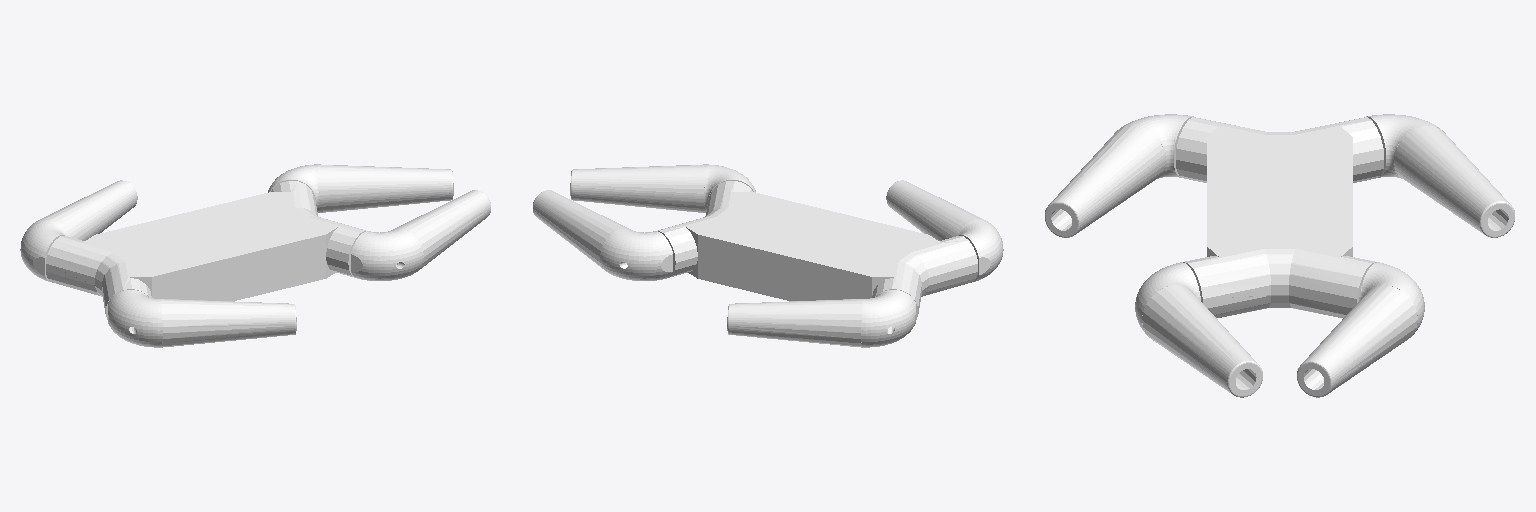
robot.urdf — 26_degree:
<?xml version="1.0" encoding="utf-8"?>
<!-- This URDF was automatically created by SolidWorks to URDF Exporter! Originally created by [author] ([email redacted]) 
     Commit Version: 1.5.1-0-g916b5db  Build Version: 1.5.7152.31018
     For more information, please see http://wiki.ros.org/sw_urdf_exporter -->
<robot
  name="26_degree">
  <link
    name="base_link">
    <inertial>
      <origin
        xyz="-6.9389E-18 8.0095E-08 3.4694E-18"
        rpy="0 0 0" />
      <mass
        value="2.803" />
      <inertia
        ixx="0.009390267"
        ixy="-3.3749E-19"
        ixz="-9.2678E-09"
        iyy="0.045536293"
        iyz="2.3182E-18"
        izz="0.052545964" />
    </inertial>
    <visual>
      <origin
        xyz="0 0 0"
        rpy="0 0 0" />
      <geometry>
        <mesh
          filename="package://26_degree/meshes/base_link.STL" />
      </geometry>
      <material
        name="">
        <color
          rgba="1 1 1 1" />
      </material>
    </visual>
    <collision>
      <origin
        xyz="0 0 0"
        rpy="0 0 0" />
      <geometry>
        <mesh
          filename="package://26_degree/meshes/base_link.STL" />
      </geometry>
    </collision>
  </link>
  <link
    name="left_fromt_link">
    <inertial>
      <origin
        xyz="-8.5031E-08 0.081625 -0.00080805"
        rpy="0 0 0" />
      <mass
        value="0.0967" />
      <inertia
        ixx="0.00042516"
        ixy="-8.7164E-11"
        ixz="1.034E-09"
        iyy="0.00010276"
        iyz="-0.000129125"
        izz="0.000372399" />
    </inertial>
    <visual>
      <origin
        xyz="0 0 0"
        rpy="0 0 0" />
      <geometry>
        <mesh
          filename="package://26_degree/meshes/left_fromt_link.STL" />
      </geometry>
      <material
        name="">
        <color
          rgba="1 1 1 1" />
      </material>
    </visual>
    <collision>
      <origin
        xyz="0 0 0"
        rpy="0 0 0" />
      <geometry>
        <mesh
          filename="package://26_degree/meshes/left_fromt_link.STL" />
      </geometry>
    </collision>
  </link>
  <joint
    name="left_front_leg"
    type="continuous">
    <origin
      xyz="0.17515 0.092576 0"
      rpy="1.5708 1.5708 0" />
    <parent
      link="base_link" />
    <child
      link="left_fromt_link" />
    <axis
      xyz="0 0.43837 -0.89879" />
    <limit
      effort="5"
      velocity="487" />
  </joint>
  <link
    name="right_front_link">
    <inertial>
      <origin
        xyz="8.5031E-08 0.081625 0.00080805"
        rpy="0 0 0" />
      <mass
        value="0.0967" />
      <inertia
        ixx="0.00042516"
        ixy="8.7164E-11"
        ixz="1.034E-09"
        iyy="0.000102706"
        iyz="0.000129125"
        izz="0.000372399" />
    </inertial>
    <visual>
      <origin
        xyz="0 0 0"
        rpy="0 0 0" />
      <geometry>
        <mesh
          filename="package://26_degree/meshes/right_front_link.STL" />
      </geometry>
      <material
        name="">
        <color
          rgba="1 1 1 1" />
      </material>
    </visual>
    <collision>
      <origin
        xyz="0 0 0"
        rpy="0 0 0" />
      <geometry>
        <mesh
          filename="package://26_degree/meshes/right_front_link.STL" />
      </geometry>
    </collision>
  </link>
  <joint
    name="right_front_leg"
    type="continuous">
    <origin
      xyz="0.17515 -0.092576 0"
      rpy="1.5708 1.5708 0" />
    <parent
      link="base_link" />
    <child
      link="right_front_link" />
    <axis
      xyz="0 0.43837 0.89879" />
    <limit
      effort="5"
      velocity="487" />
  </joint>
  <link
    name="right_back_link">
    <inertial>
      <origin
        xyz="7.1751E-08 0.07301 0.036508"
        rpy="0 0 0" />
      <mass
        value="0.0967" />
      <inertia
        ixx="0.00042516"
        ixy="-3.2015E-10"
        ixz="1.3308E-10"
        iyy="0.000052824"
        iyz="-0.000026741"
        izz="0.000422335" />
    </inertial>
    <visual>
      <origin
        xyz="0 0 0"
        rpy="0 0 0" />
      <geometry>
        <mesh
          filename="package://26_degree/meshes/right_back_link.STL" />
      </geometry>
      <material
        name="">
        <color
          rgba="1 1 1 1" />
      </material>
    </visual>
    <collision>
      <origin
        xyz="0 0 0"
        rpy="0 0 0" />
      <geometry>
        <mesh
          filename="package://26_degree/meshes/right_back_link.STL" />
      </geometry>
    </collision>
  </link>
  <joint
    name="right_back_leg"
    type="continuous">
    <origin
      xyz="-0.17515 -0.092576 0"
      rpy="2.0246 1.5708 0" />
    <parent
      link="base_link" />
    <child
      link="right_back_link" />
    <axis
      xyz="0 0 1" />
    <limit
      effort="5"
      velocity="487" />
  </joint>
  <link
    name="left_back_link">
    <inertial>
      <origin
        xyz="-7.1751E-08 0.049617 -0.064819"
        rpy="0 0 0" />
      <mass
        value="0.0967" />
      <inertia
        ixx="0.00042516"
        ixy="3.4609E-10"
        ixz="-2.0733E-11"
        iyy="0.000144906"
        iyz="0.00162053"
        izz="0.000330254" />
    </inertial>
    <visual>
      <origin
        xyz="0 0 0"
        rpy="0 0 0" />
      <geometry>
        <mesh
          filename="package://26_degree/meshes/left_back_link.STL" />
      </geometry>
      <material
        name="">
        <color
          rgba="1 1 1 1" />
      </material>
    </visual>
    <collision>
      <origin
        xyz="0 0 0"
        rpy="0 0 0" />
      <geometry>
        <mesh
          filename="package://26_degree/meshes/left_back_link.STL" />
      </geometry>
    </collision>
  </link>
  <joint
    name="left_back_leg"
    type="continuous">
    <origin
      xyz="-0.17515 0.092576 0"
      rpy="1.5708 1.5708 0" />
    <parent
      link="base_link" />
    <child
      link="left_back_link" />
    <axis
      xyz="0 -0.43837 -0.89879" />
    <limit
      effort="5"
      velocity="487" />
  </joint>
</robot>

--- Render facts (derived) ---
Views: 3 orthographic renders of the robot side by side, from view 1: azimuth 30°, elevation 25°; view 2: azimuth 150°, elevation 25°; view 3: azimuth 270°, elevation 25°.
Robot: 26_degree — 5 links, 4 joints (4 continuous); root link base_link; default pose: all joints at 0.
Visible links, largest first — view 1: base_link, right_back_link, right_front_link, left_fromt_link, left_back_link; view 2: base_link, left_back_link, left_fromt_link, right_front_link, right_back_link; view 3: base_link, left_back_link, right_back_link, left_fromt_link, right_front_link.
Boxes of the visible links, bbox=[...] form: base_link: bbox=[46, 181, 365, 319]; right_back_link: bbox=[108, 290, 296, 347]; right_front_link: bbox=[351, 190, 490, 280]; left_fromt_link: bbox=[268, 164, 453, 212]; left_back_link: bbox=[20, 180, 137, 281]; base_link: bbox=[658, 181, 977, 319]; left_back_link: bbox=[727, 290, 915, 347]; left_fromt_link: bbox=[533, 190, 672, 280]; right_front_link: bbox=[570, 164, 755, 212]; right_back_link: bbox=[886, 180, 1003, 281]; base_link: bbox=[1176, 117, 1383, 317]; left_back_link: bbox=[1366, 114, 1514, 237]; right_back_link: bbox=[1045, 114, 1193, 237]; left_fromt_link: bbox=[1297, 262, 1424, 397]; right_front_link: bbox=[1135, 262, 1262, 397].
Size in the robot's own frame: 0.6058 by 0.4807 by 0.064 metres.
Meshes: 5 distinct files referenced, 5 mesh visuals loaded (5 binary STL).